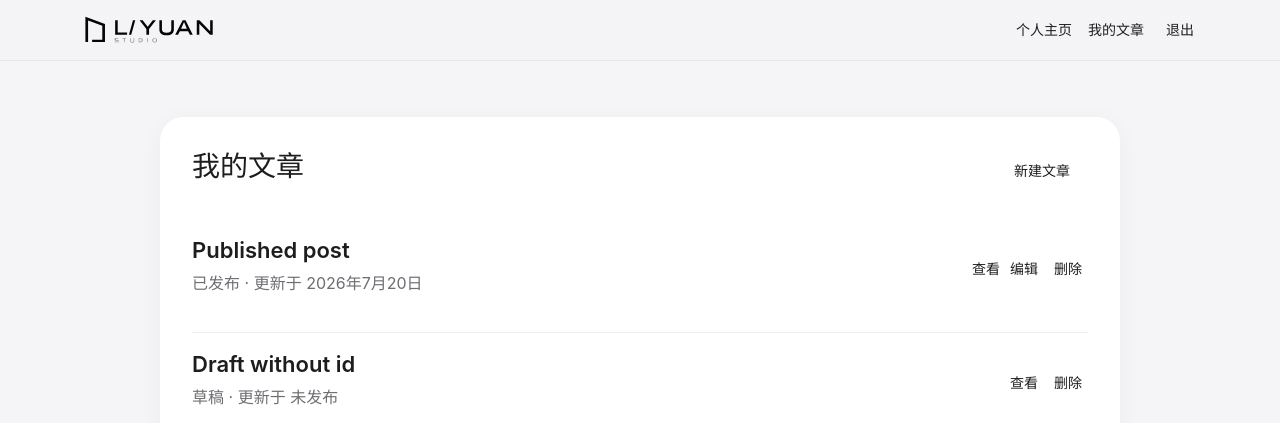
ProfilePage › lists and deletes the current member blog posts
This screenshot has width=1280, height=423.
Expected: the heading "Published post" is shown, [192,237,350,263]
Expected: the heading "Draft without id" is shown, [192,351,355,377]
Click the button "删除" next to "编辑".
click(1068, 268)  # box [1048,256,1088,280]
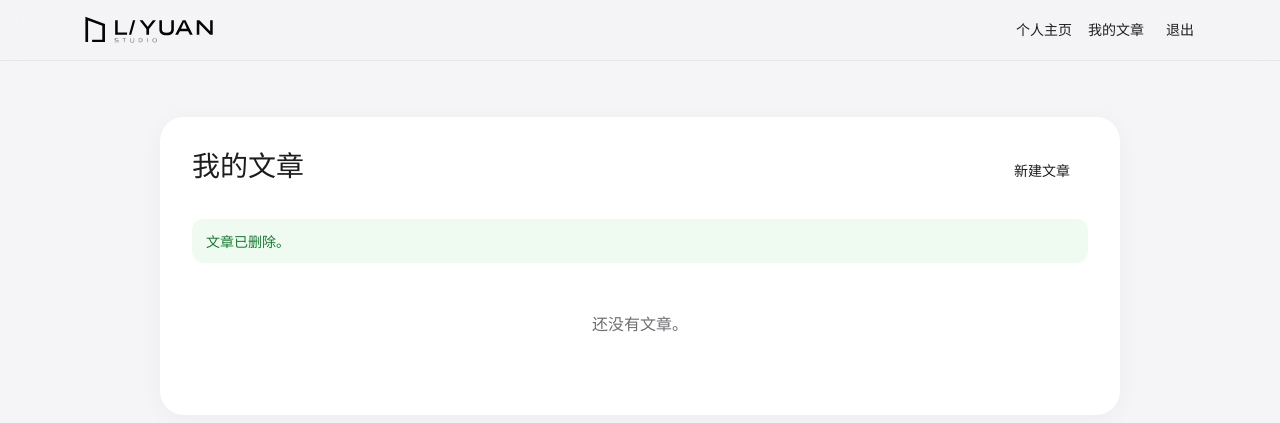
Expected: the message reads "文章已删除。", [206,233,290,250]
Expected: the text "还没有文章。" is shown, [592,314,688,334]
